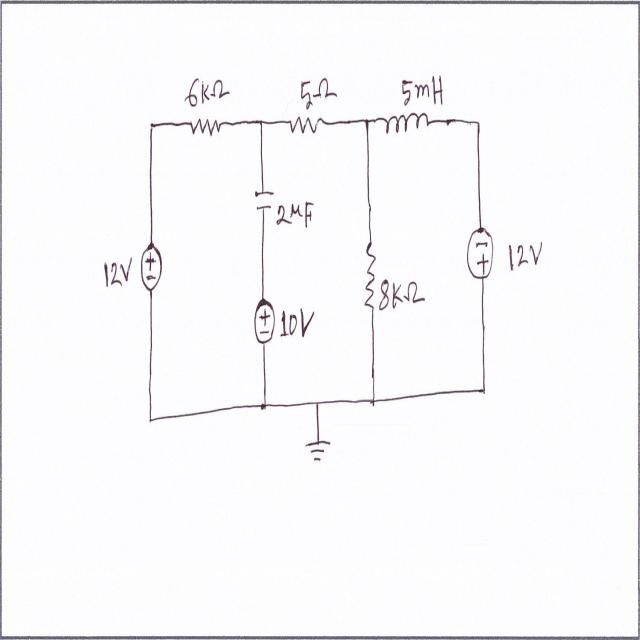capacitor: (250, 180, 275, 218)
ground: (302, 431, 335, 471)
inductor: (383, 105, 434, 144)
resistor: (286, 107, 334, 143), (362, 228, 378, 315), (186, 108, 227, 141)
voltage_source: (464, 216, 496, 288), (138, 232, 165, 300), (251, 287, 276, 350)
